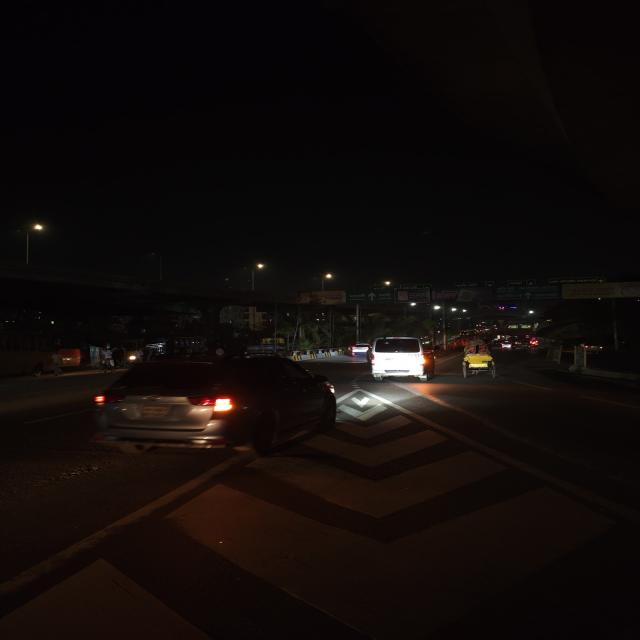car: (86, 354, 340, 457), (359, 336, 440, 382), (347, 342, 372, 358)
rickshaw: (456, 343, 502, 379)
